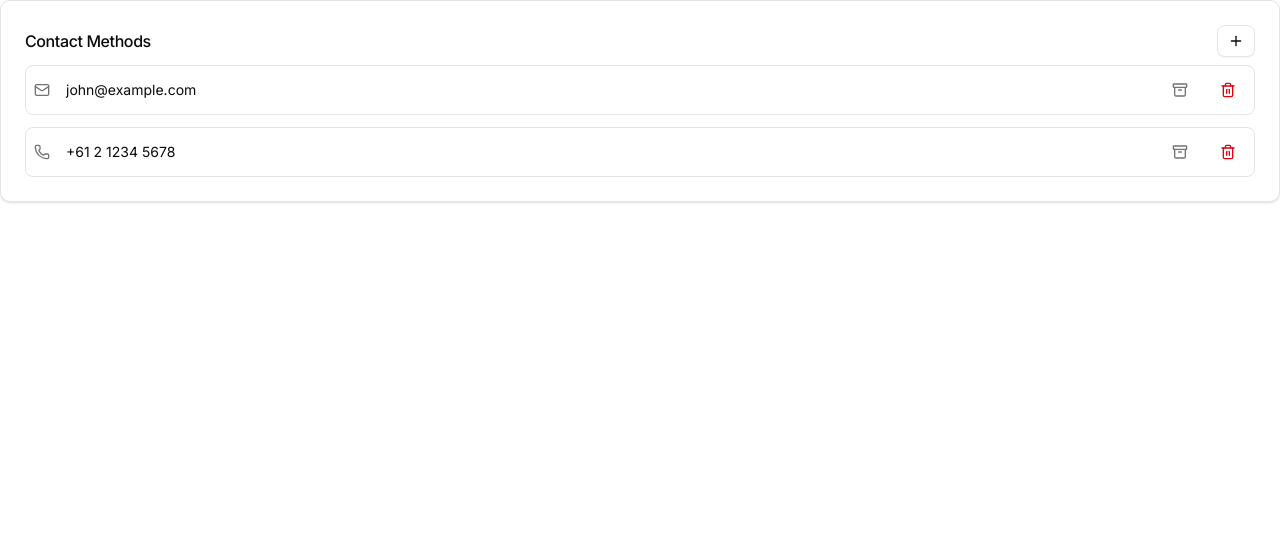
ContactMethodsList › closes the add form when the add is refused as a conflict
The width and height of the screenshot is (1280, 556).
Click the button named "Add contact method": x=1236, y=41 x1=1217 y1=25 x2=1255 y2=57
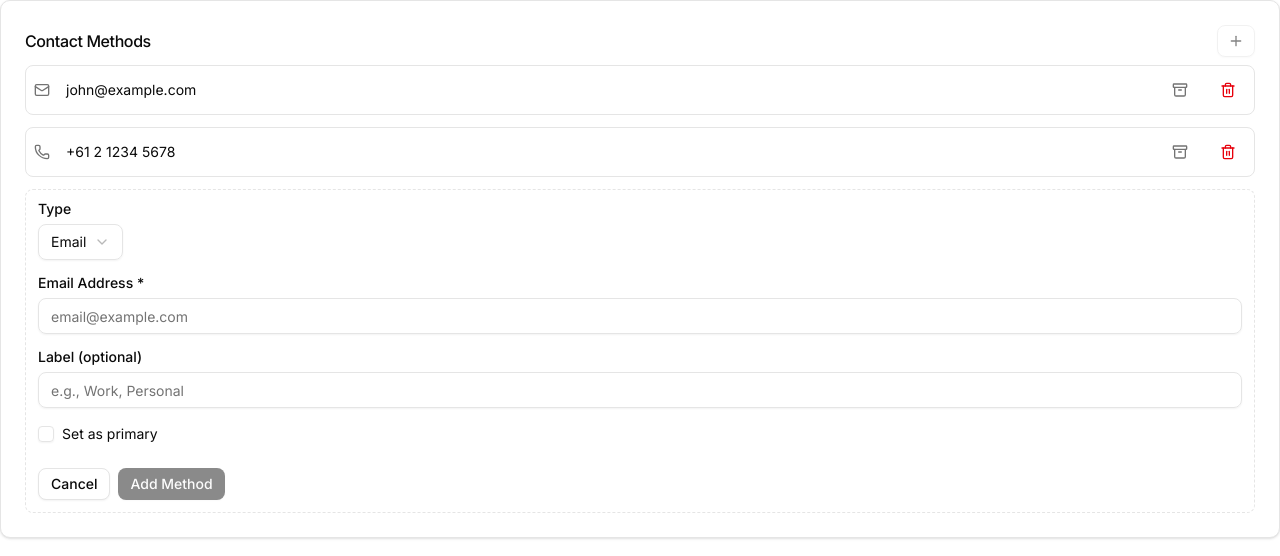
In the field with test id "method-value-input": x=640, y=316 x1=38 y1=298 x2=1242 y2=334, type "new@example.com"
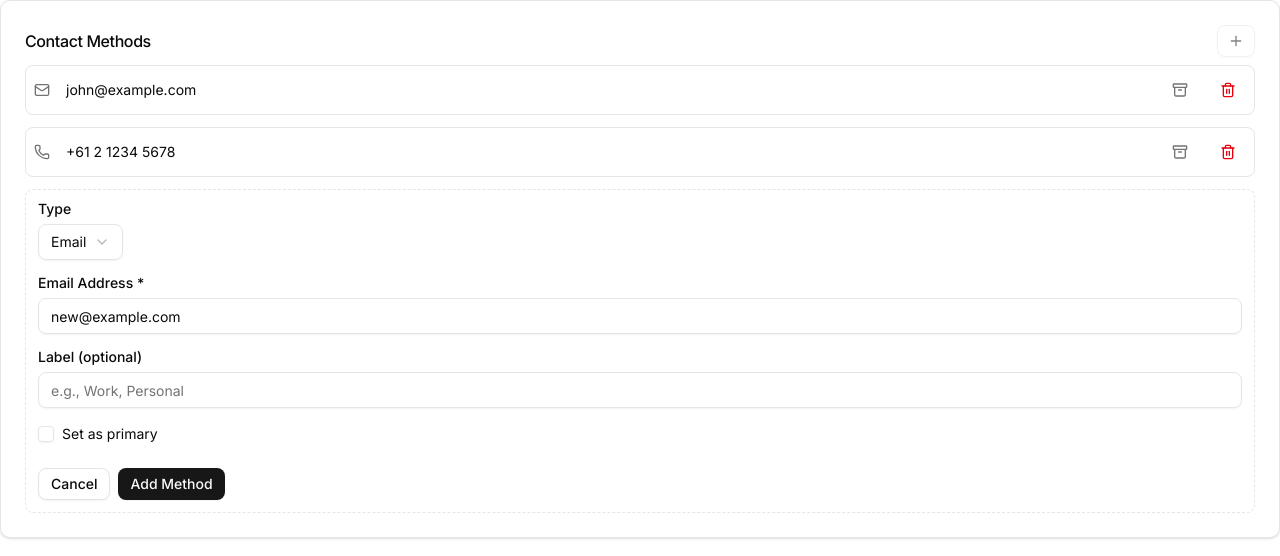
Click the button "Add Method": x=172, y=484 x1=118 y1=468 x2=225 y2=500
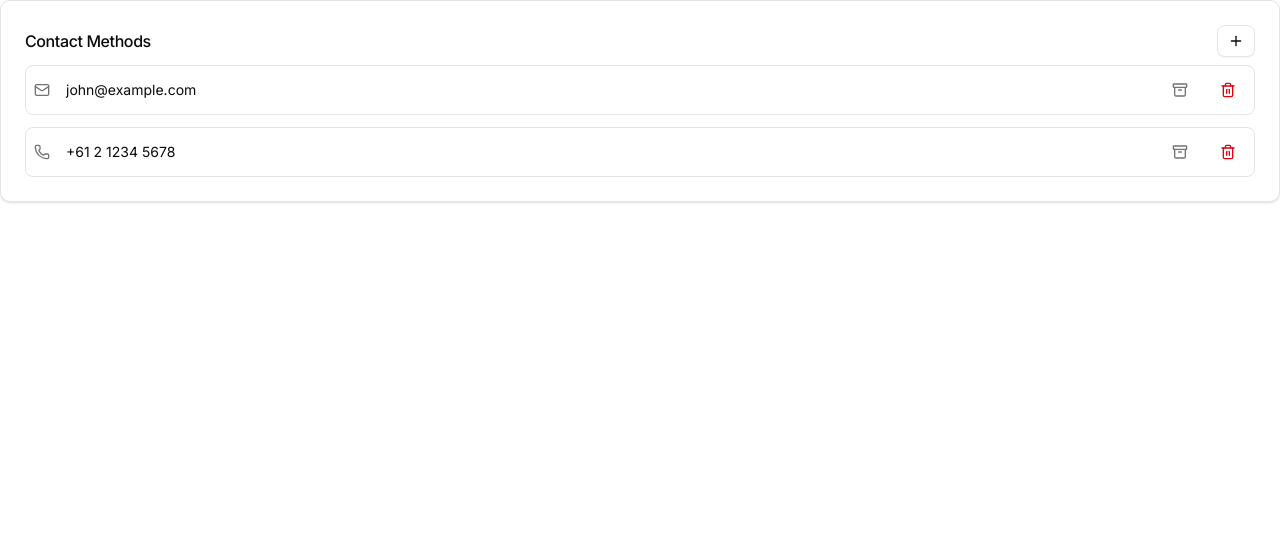
Now the button "Add Method" is gone
